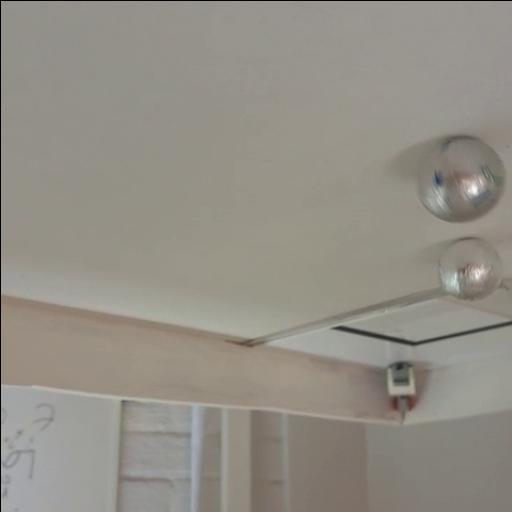alive: (416, 135, 506, 223), (436, 235, 506, 301)
